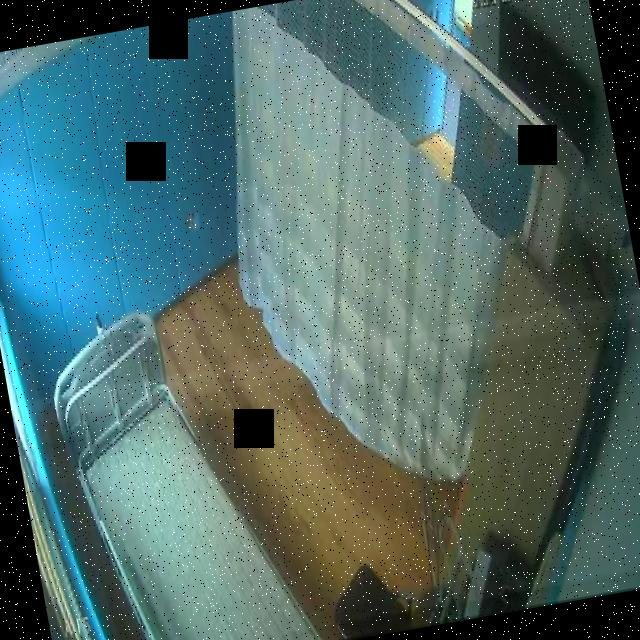bed: (42, 289, 321, 640)
